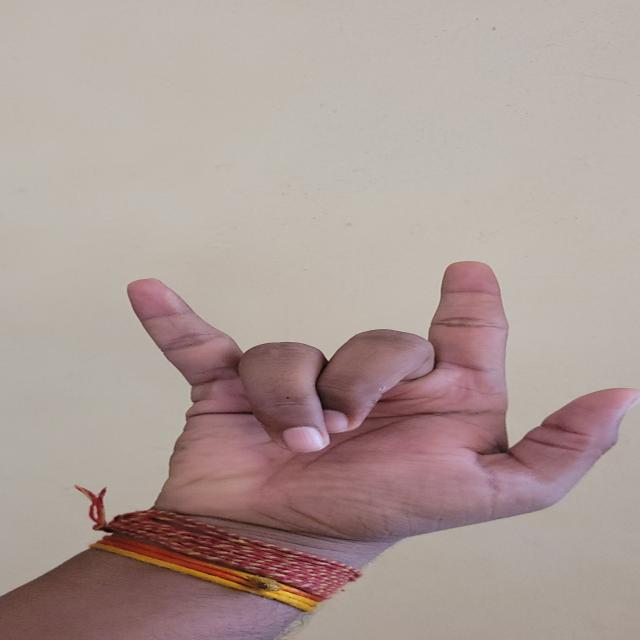i like you: (49, 250, 636, 602)
